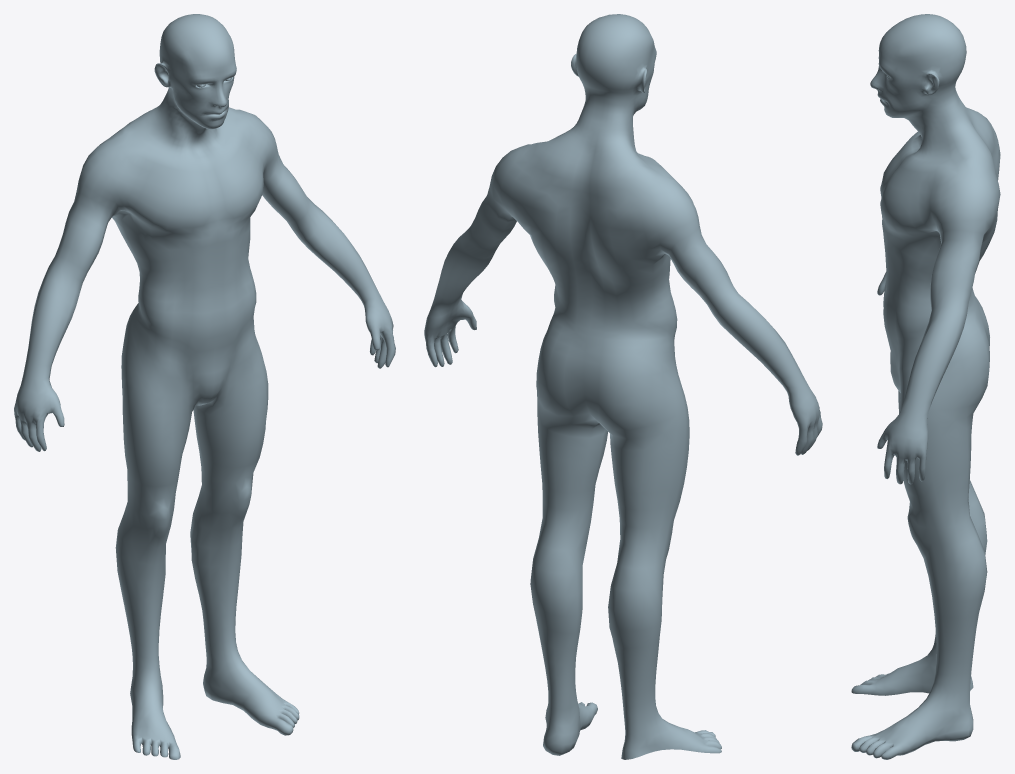
File: body.glb
3 renders of one model, left to right at view 1: azimuth 30°, elevation 25°; view 2: azimuth 150°, elevation 25°; view 3: azimuth 270°, elevation 25°, orthographic. The views are drawn at different scales.
Visible parts, largest first — view 1: front, leftleg, rightleg, head, righthand, leftarm, rightpalm, leftpalm, back; view 2: back, rightleg, leftleg, head, righthand, front, leftarm, leftpalm, rightpalm; view 3: leftleg, front, head, back, leftarm, leftpalm, rightleg, leftfoot.
Part boxes in pixels (x1=…): front: x1=74, y1=114, x2=279, y2=419; leftleg: x1=190, y1=383, x2=299, y2=732; rightleg: x1=115, y1=397, x2=191, y2=759; head: x1=144, y1=14, x2=236, y2=152; righthand: x1=26, y1=201, x2=108, y2=365; leftarm: x1=262, y1=155, x2=372, y2=291; rightpalm: x1=14, y1=360, x2=64, y2=451; leftpalm: x1=352, y1=279, x2=395, y2=368; back: x1=79, y1=107, x2=253, y2=379; back: x1=487, y1=135, x2=693, y2=439; rightleg: x1=608, y1=422, x2=721, y2=759; leftleg: x1=530, y1=403, x2=607, y2=744; head: x1=560, y1=14, x2=656, y2=158; righthand: x1=673, y1=235, x2=798, y2=379; front: x1=507, y1=141, x2=701, y2=433; leftarm: x1=437, y1=196, x2=516, y2=298; leftpalm: x1=424, y1=289, x2=476, y2=367; rightpalm: x1=776, y1=367, x2=822, y2=455; leftleg: x1=851, y1=414, x2=987, y2=757; front: x1=880, y1=132, x2=973, y2=424; head: x1=870, y1=14, x2=975, y2=155; back: x1=947, y1=108, x2=1000, y2=420; leftarm: x1=905, y1=239, x2=980, y2=401; leftpalm: x1=877, y1=398, x2=931, y2=484; rightleg: x1=851, y1=391, x2=987, y2=695; leftfoot: x1=851, y1=721, x2=973, y2=759.
Bounding box in the file's own units: 1.08 × 1.96 × 0.3749.
